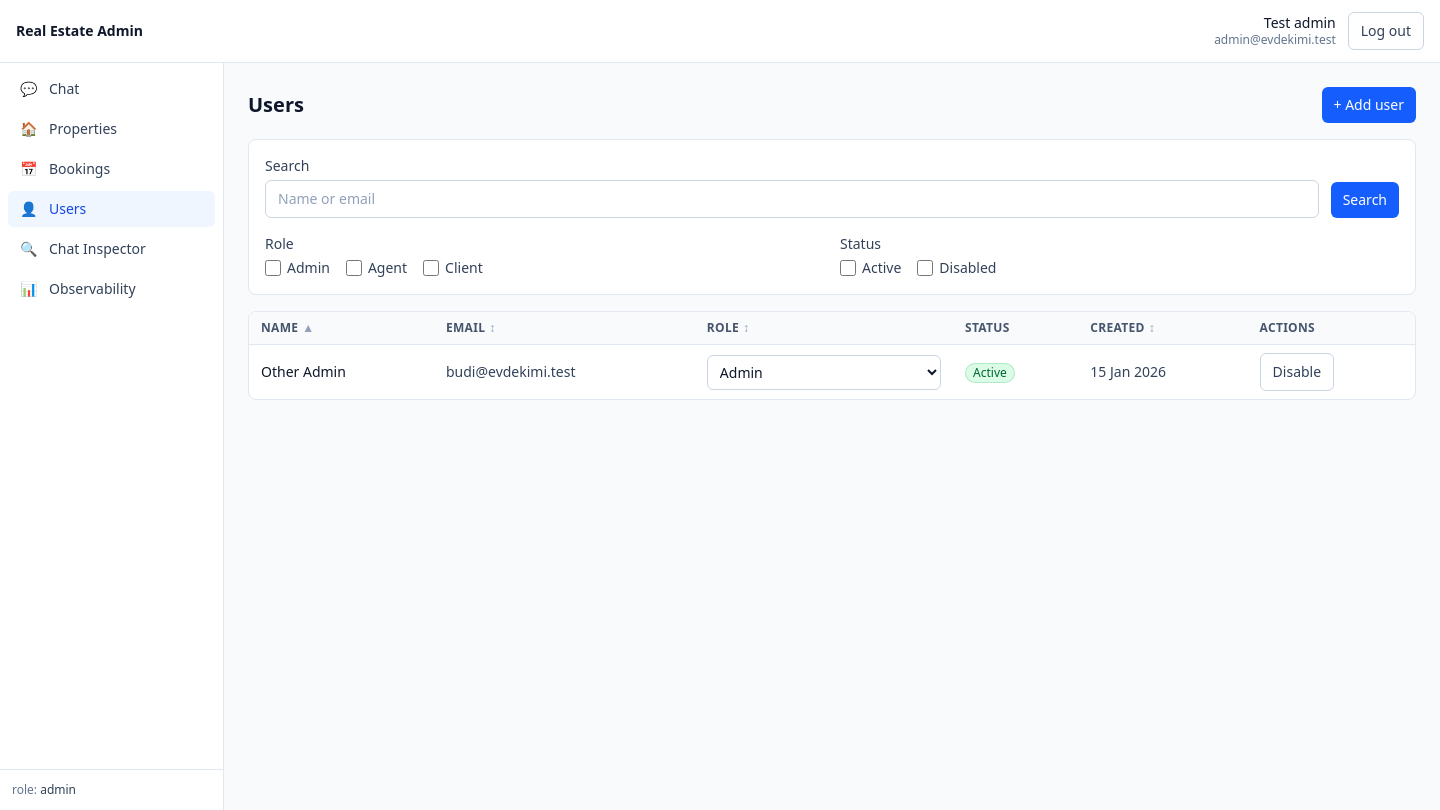
Test case: UsersPage role change › renders the backend self-lockout message as sent
Check: the text "Other Admin" is shown, box [249,344,434,399]
Select "Agent" in the dropdown named "Role for Other Admin": (824, 372) [707,354,941,390]
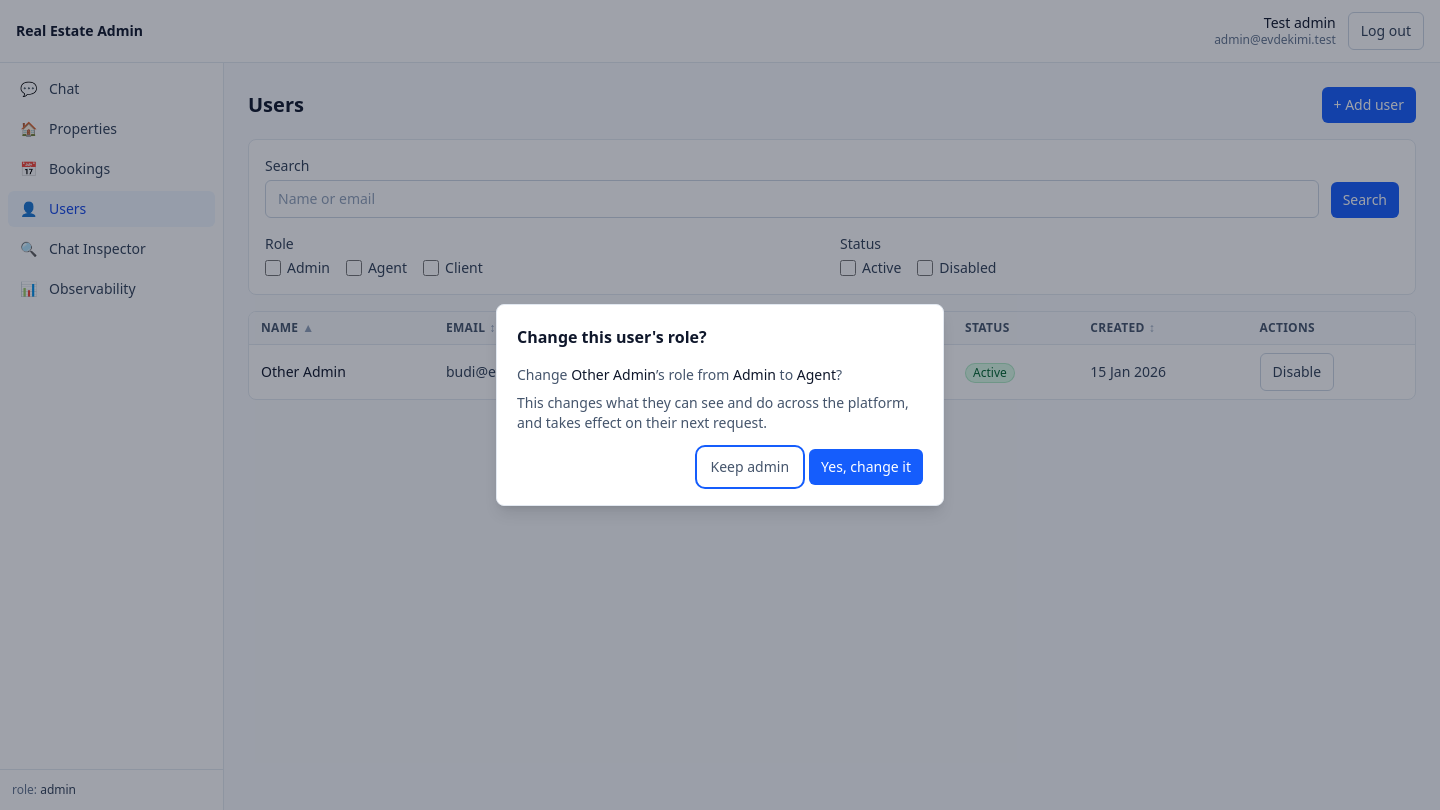
Click the button "Yes, change it": (866, 467) [809,449,923,485]
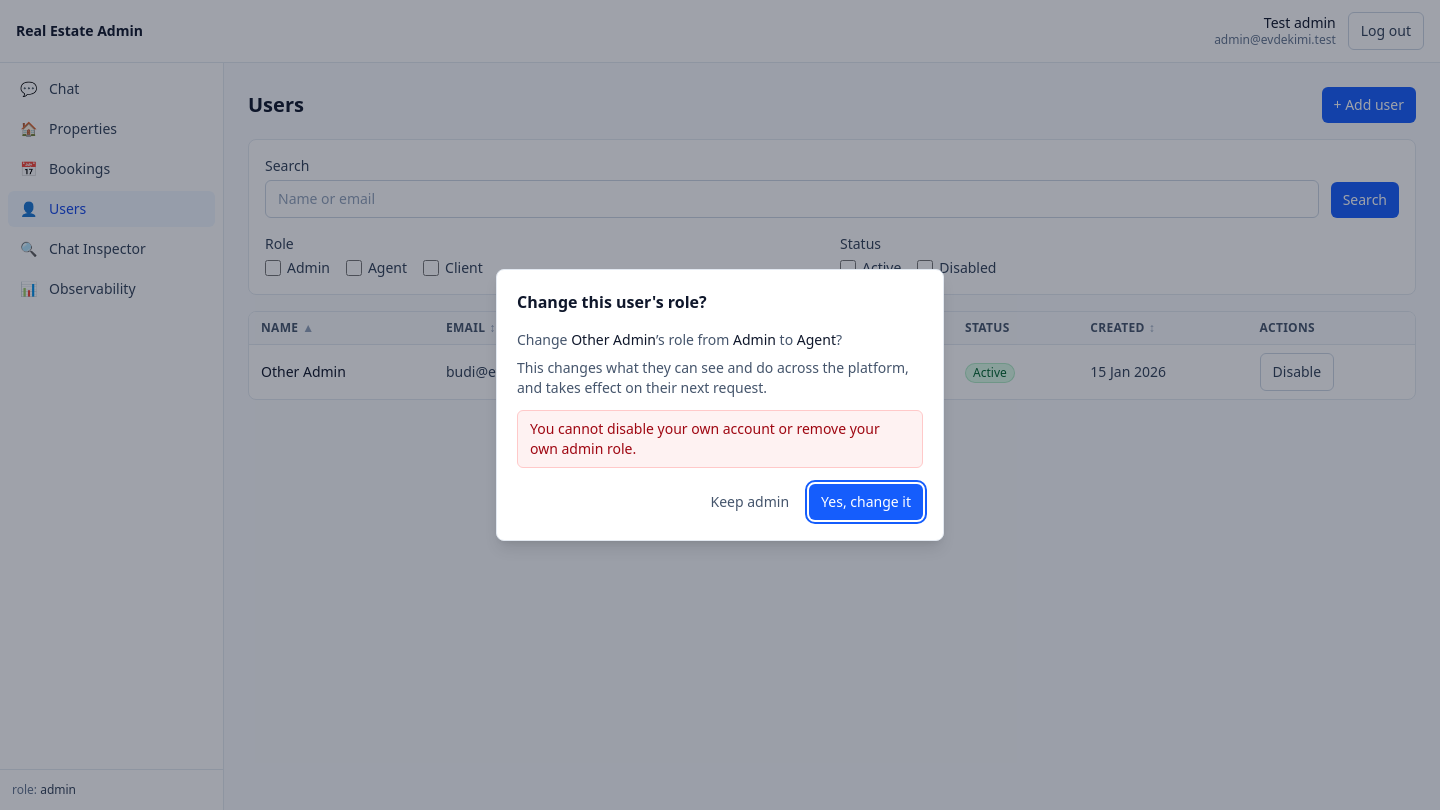
Check: the message reads "You cannot disable your own account or remove your own admin role.", box [530,419,880,458]
